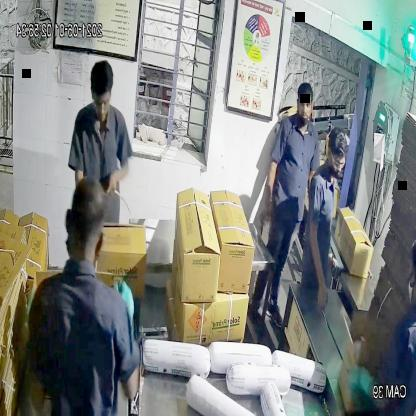goggles: (326, 150, 348, 175)
